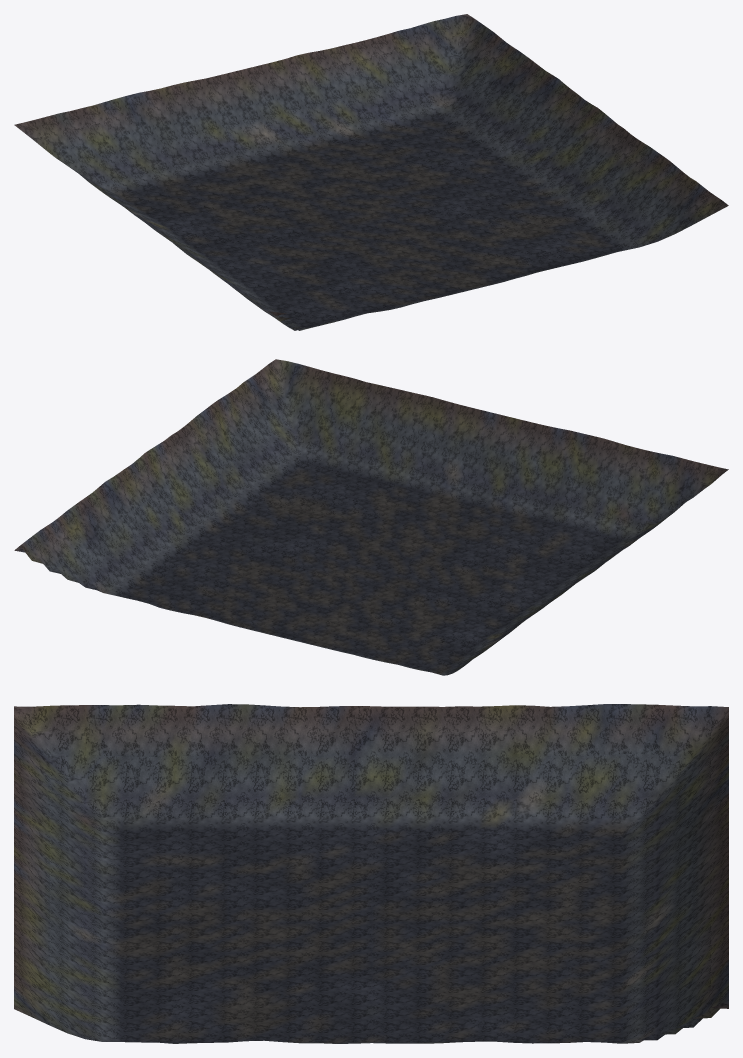
File: ground_skin.glb
3 renders of one model, top to bottom at view 1: azimuth 30°, elevation 25°; view 2: azimuth 150°, elevation 25°; view 3: azimuth 270°, elevation 25°, orthographic. The views are drawn at different scales.
Parts seen in each view (by area): view 1: ground_skin; view 2: ground_skin; view 3: ground_skin.
Boxes of the visible parts, box(x1,y1,x2,y2) form: ground_skin: box(14, 14, 728, 330); ground_skin: box(14, 359, 728, 675); ground_skin: box(14, 704, 728, 1043).
Bounding box in the file's own units: 66 × 8.68 × 66.
Materials: 1 (1 with a texture image).
